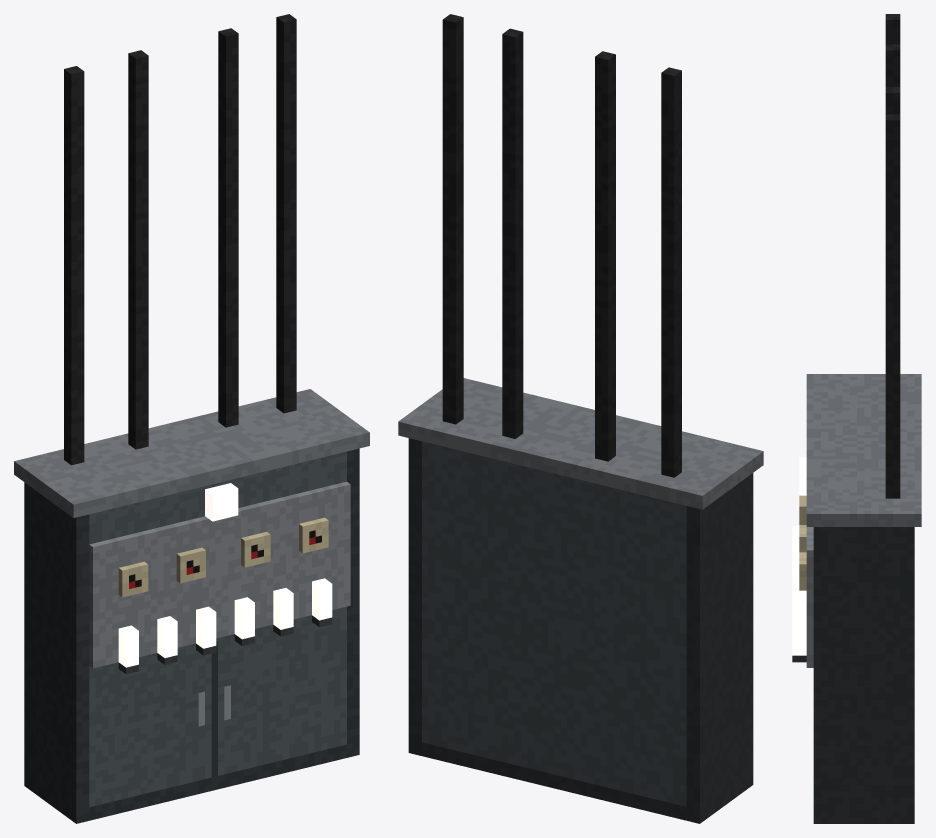
The model's file is poste_central_mur.glb.
3 views of the same model, side by side, from view 1: azimuth 30°, elevation 25°; view 2: azimuth 150°, elevation 25°; view 3: azimuth 270°, elevation 25° (orthographic). The views are drawn at different scales.
Parts seen in each view (by area): view 1: voxel__poste_central_mur_armoire__block, voxel__poste_central_mur_tubes__ns, voxel__poste_central_mur_voyant__ns; view 2: voxel__poste_central_mur_armoire__block; view 3: voxel__poste_central_mur_armoire__block, voxel__poste_central_mur_tubes__ns, voxel__poste_central_mur_voyant__ns.
Boxes of the visible parts, x1,y1,x2,y2 form: voxel__poste_central_mur_armoire__block: [14, 14, 369, 823]; voxel__poste_central_mur_tubes__ns: [118, 578, 332, 667]; voxel__poste_central_mur_voyant__ns: [205, 483, 238, 521]; voxel__poste_central_mur_armoire__block: [398, 14, 763, 823]; voxel__poste_central_mur_armoire__block: [792, 14, 921, 823]; voxel__poste_central_mur_tubes__ns: [792, 525, 806, 655]; voxel__poste_central_mur_voyant__ns: [799, 457, 806, 495].
Bounding box in the file's own units: 2.3 × 5.3 × 0.9.
